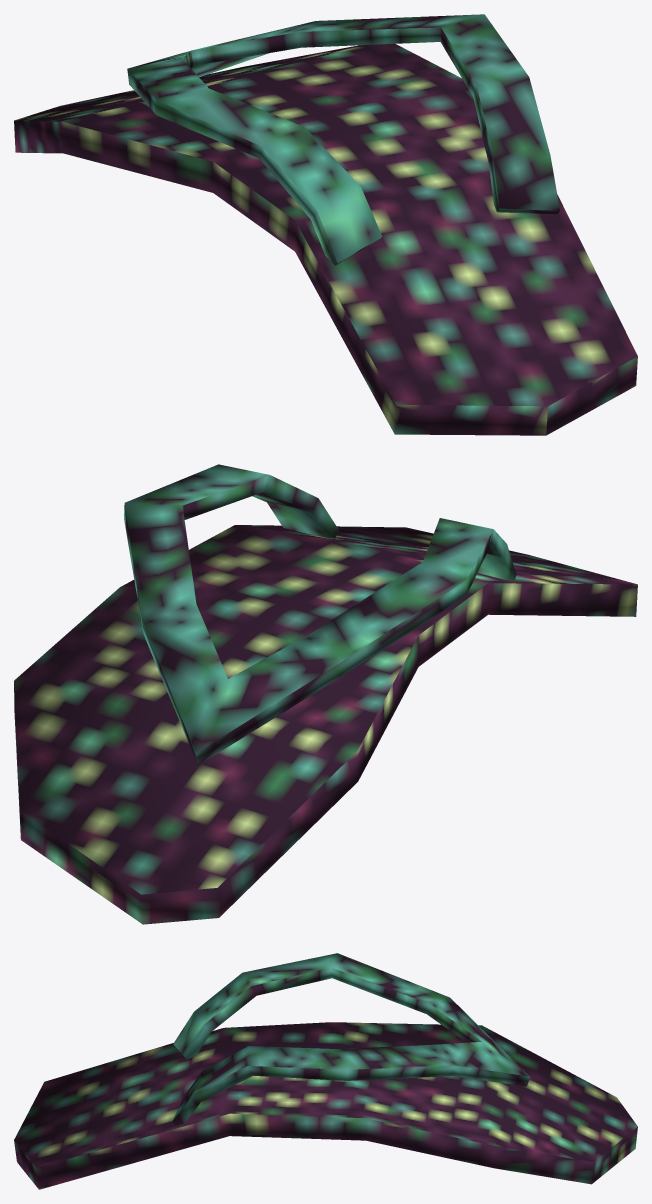
Rendered from flipflop.fbx.
3 renders of one model, top to bottom at view 1: azimuth 30°, elevation 25°; view 2: azimuth 150°, elevation 25°; view 3: azimuth 270°, elevation 25°, orthographic. The views are drawn at different scales.
Visible parts, largest first — view 1: flipflop_bend; view 2: flipflop_bend; view 3: flipflop_bend.
Part boxes in pixels (bbox=[...]): flipflop_bend: bbox=[14, 14, 637, 435]; flipflop_bend: bbox=[14, 464, 637, 924]; flipflop_bend: bbox=[14, 953, 637, 1189].
Size of the model in its own units: 342 by 213 by 759.
1 material, 1 textured.
